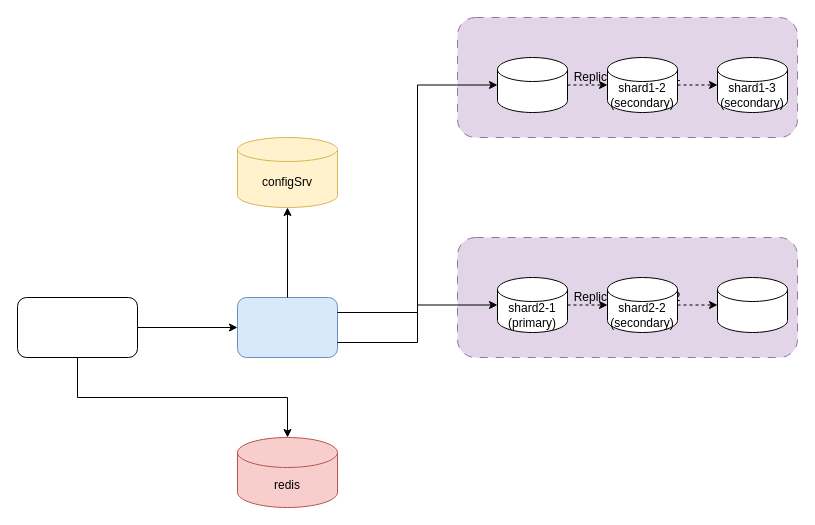
The diagram is 815 pixels wide and 525 high, and some of its shapes have lost their labels. The shapes that lost their labels are listed below. From the top down, each one's centre as x and y in pixels, then its label:
At (532,84): "shard1-1 (primary)".
At (752,304): "shard2-3 (secondary)".
At (77,327): "pymongo-api".
At (287,327): "mongos (router)".
